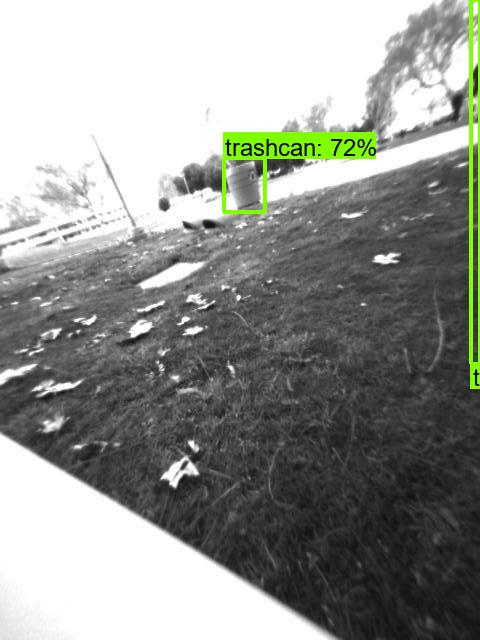trashcan: (223, 157, 263, 212)
